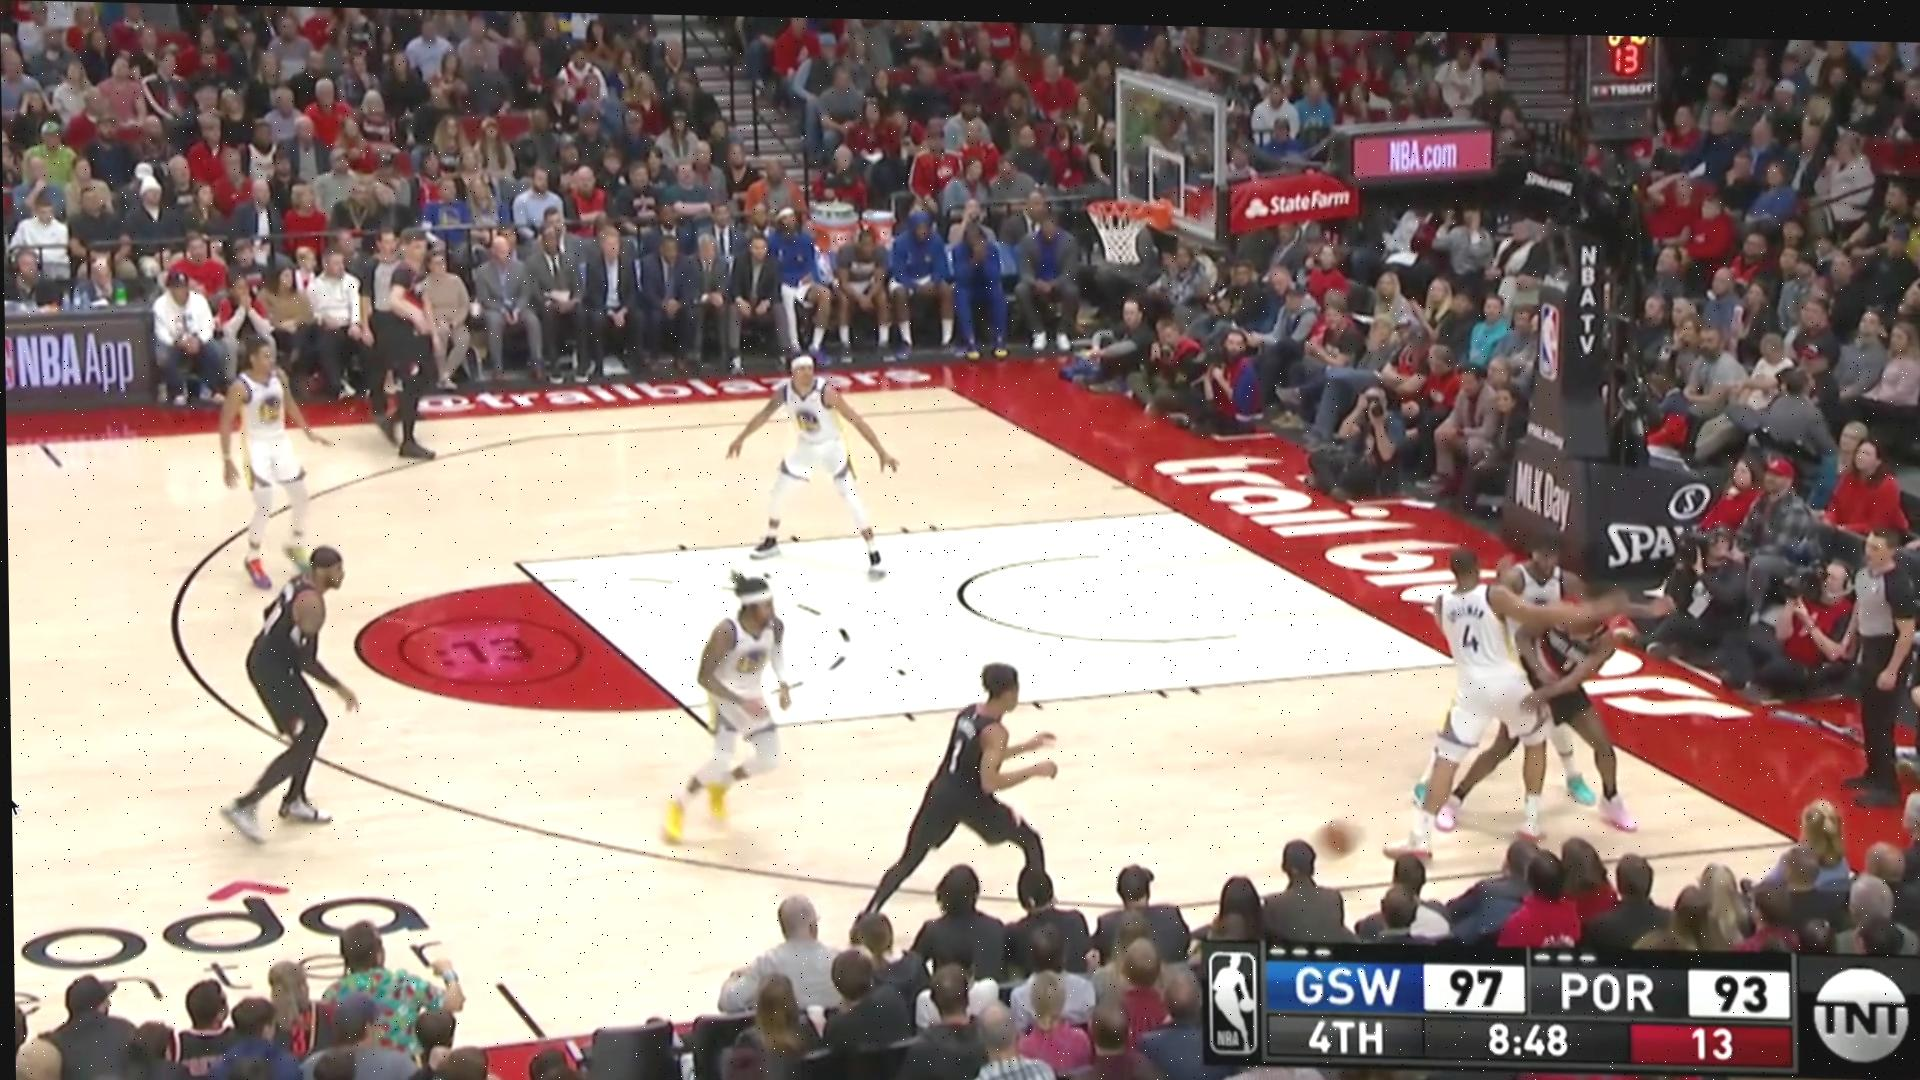no_foul: (1428, 533, 1619, 804)
